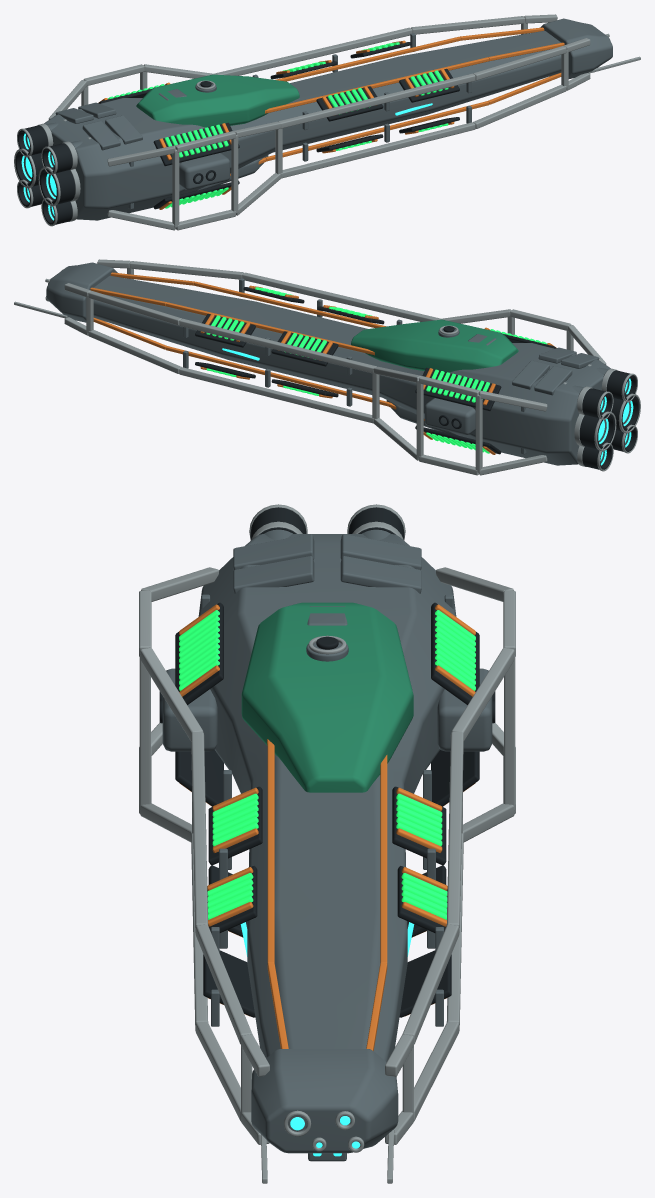
File: shu-siege.glb
The picture shows the model from 3 angles, top to bottom: view 1: azimuth 30°, elevation 25°; view 2: azimuth 150°, elevation 25°; view 3: azimuth 270°, elevation 25°; orthographic projection. The views are drawn at different scales.
Visible parts, largest first — view 1: Skeletal machinery keel, Emerald command capsule, Armored asymmetric nose collar, Converging external spar.009, Converging external spar.003, Converging external spar.021, Outboard maneuvering thruster housing, Exposed copper power bus.003, Converging external spar.022, Exposed copper power bus.018, Recessed rectangular capacitor rack.003, Converging external spar.004 (+33 smaller); view 2: Skeletal machinery keel, Emerald command capsule, Armored asymmetric nose collar, Converging external spar.021, Converging external spar.015, Converging external spar.009, Outboard maneuvering thruster housing.001, Exposed copper power bus.013, Exposed copper power bus.008, Converging external spar.010, Recessed rectangular capacitor rack.009, Converging external spar.016 (+33 smaller); view 3: Skeletal machinery keel, Emerald command capsule, Armored asymmetric nose collar, Converging external spar.009, Converging external spar.021, Outboard maneuvering thruster housing, Outboard maneuvering thruster housing.001, Aft paired capacitor service panel.001, Aft paired capacitor service panel.003, Converging external spar.010, Converging external spar.022, Aft paired capacitor service panel (+23 smaller).
Part boxes in pixels (<box>): Skeletal machinery keel: <box>44,30,561,220</box>; Emerald command capsule: <box>136,74,299,127</box>; Armored asymmetric nose collar: <box>540,18,612,78</box>; Converging external spar.009: <box>278,73,475,128</box>; Converging external spar.003: <box>281,122,475,178</box>; Converging external spar.021: <box>214,27,412,75</box>; Outboard maneuvering thruster housing: <box>179,153,229,189</box>; Exposed copper power bus.003: <box>265,101,489,161</box>; Converging external spar.022: <box>411,16,525,34</box>; Exposed copper power bus.018: <box>275,36,460,81</box>; Recessed rectangular capacitor rack.003: <box>153,122,239,166</box>; Converging external spar.004: <box>473,84,566,128</box>; Skeletal machinery keel: <box>93,275,610,465</box>; Emerald command capsule: <box>351,319,518,372</box>; Armored asymmetric nose collar: <box>46,262,117,322</box>; Converging external spar.021: <box>179,318,376,373</box>; Converging external spar.015: <box>179,367,373,423</box>; Converging external spar.009: <box>242,272,440,321</box>; Outboard maneuvering thruster housing.001: <box>425,398,475,434</box>; Exposed copper power bus.013: <box>165,346,389,406</box>; Exposed copper power bus.008: <box>194,281,386,327</box>; Converging external spar.010: <box>129,261,243,279</box>; Recessed rectangular capacitor rack.009: <box>415,367,501,411</box>; Converging external spar.016: <box>88,329,181,373</box>; Skeletal machinery keel: <box>198,534,456,1062</box>; Emerald command capsule: <box>241,602,413,792</box>; Armored asymmetric nose collar: <box>251,1049,398,1153</box>; Converging external spar.009: <box>191,732,208,932</box>; Converging external spar.021: <box>446,732,463,932</box>; Outboard maneuvering thruster housing: <box>162,668,217,751</box>; Outboard maneuvering thruster housing.001: <box>437,668,492,751</box>; Aft paired capacitor service panel.001: <box>233,556,314,593</box>; Aft paired capacitor service panel.003: <box>340,556,421,593</box>; Converging external spar.010: <box>195,924,252,1044</box>; Converging external spar.022: <box>402,924,459,1044</box>; Aft paired capacitor service panel: <box>233,534,314,570</box>.
Bounding box in the file's own units: 1050 × 171 × 291.
